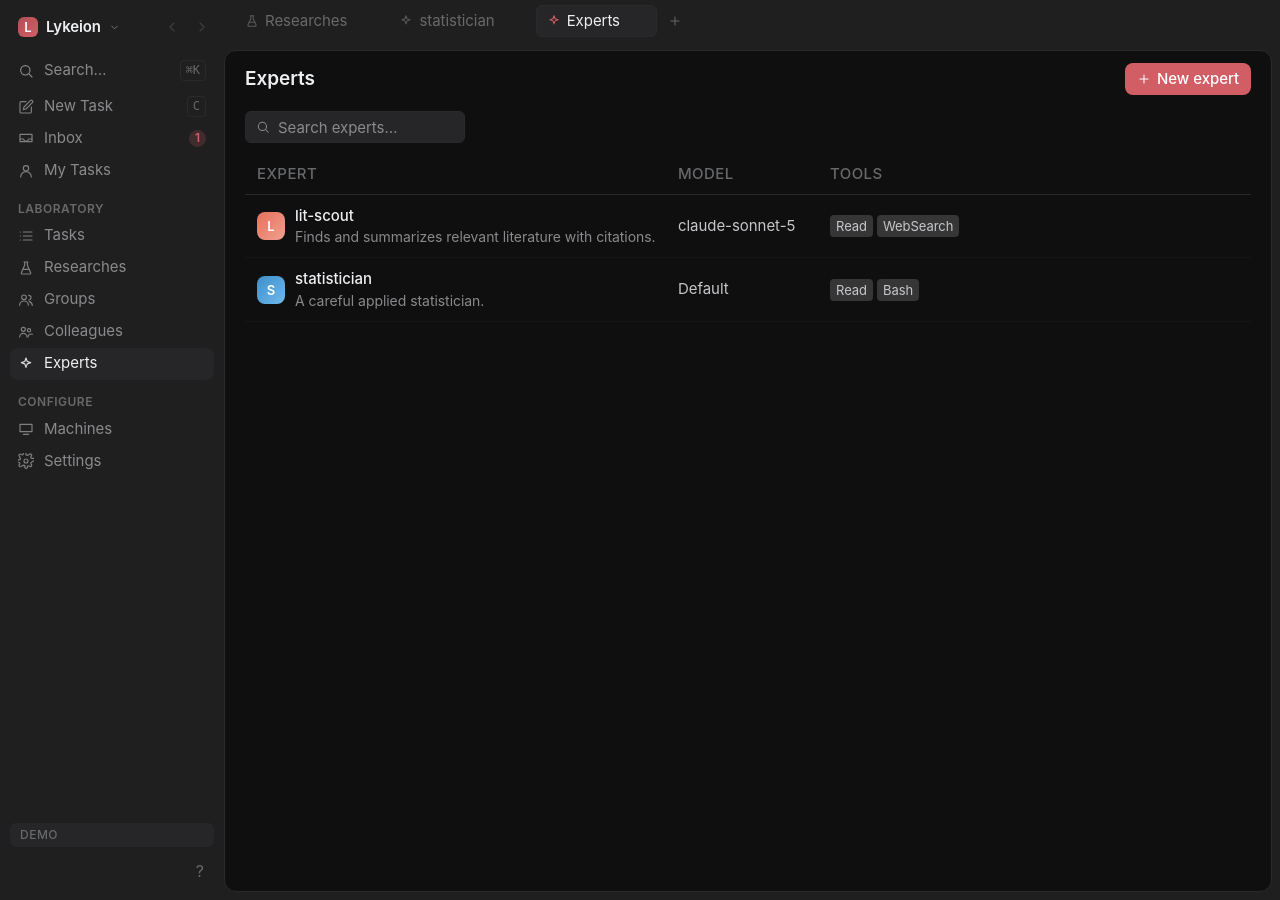
Test: offers the caller's own machines in the machine picker and never defaults to a colleague's
The width and height of the screenshot is (1280, 900).
Click the link "Experts" at (112, 364), box [10,348,214,380]
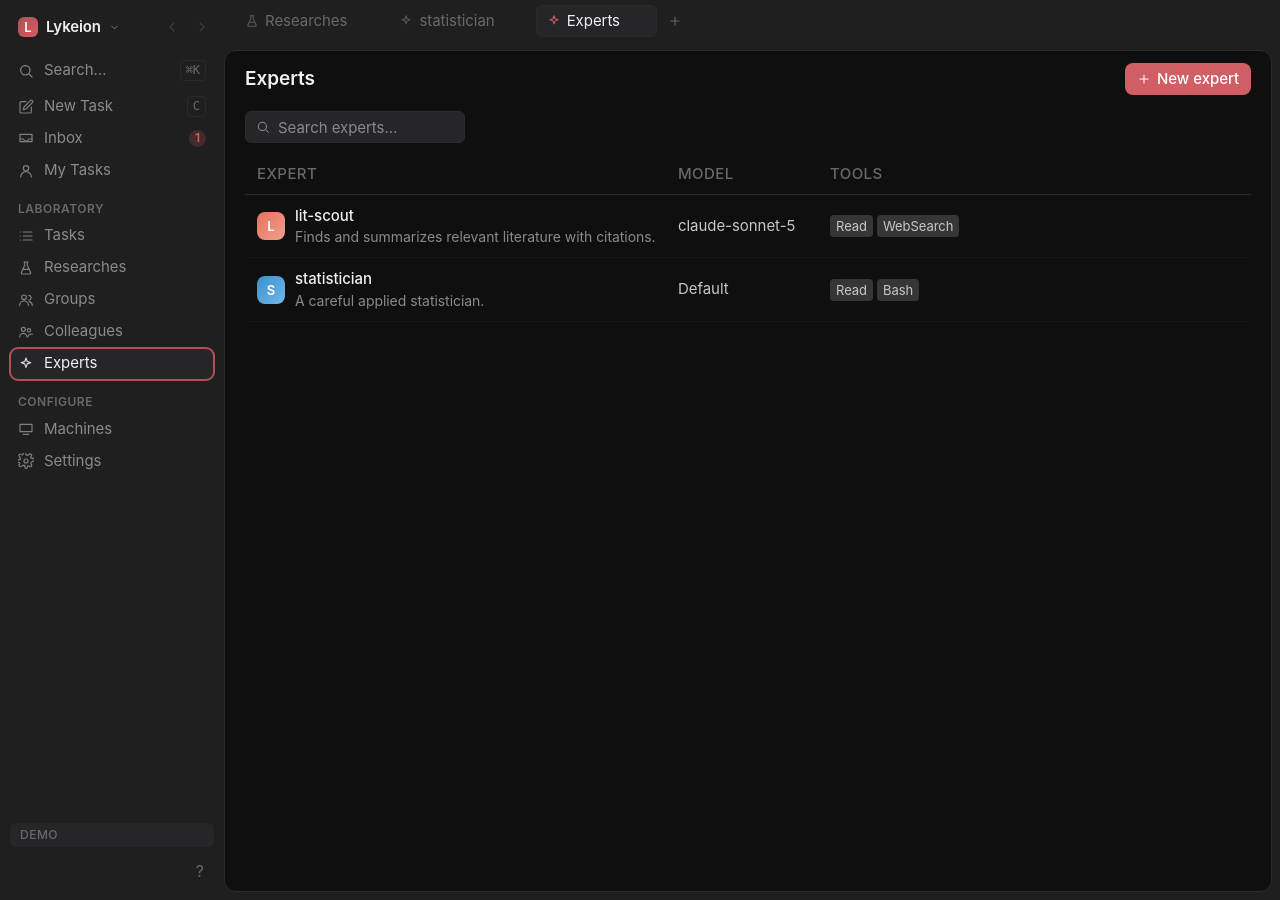
Click the button "New expert" at (1188, 79), box [1125,63,1251,95]
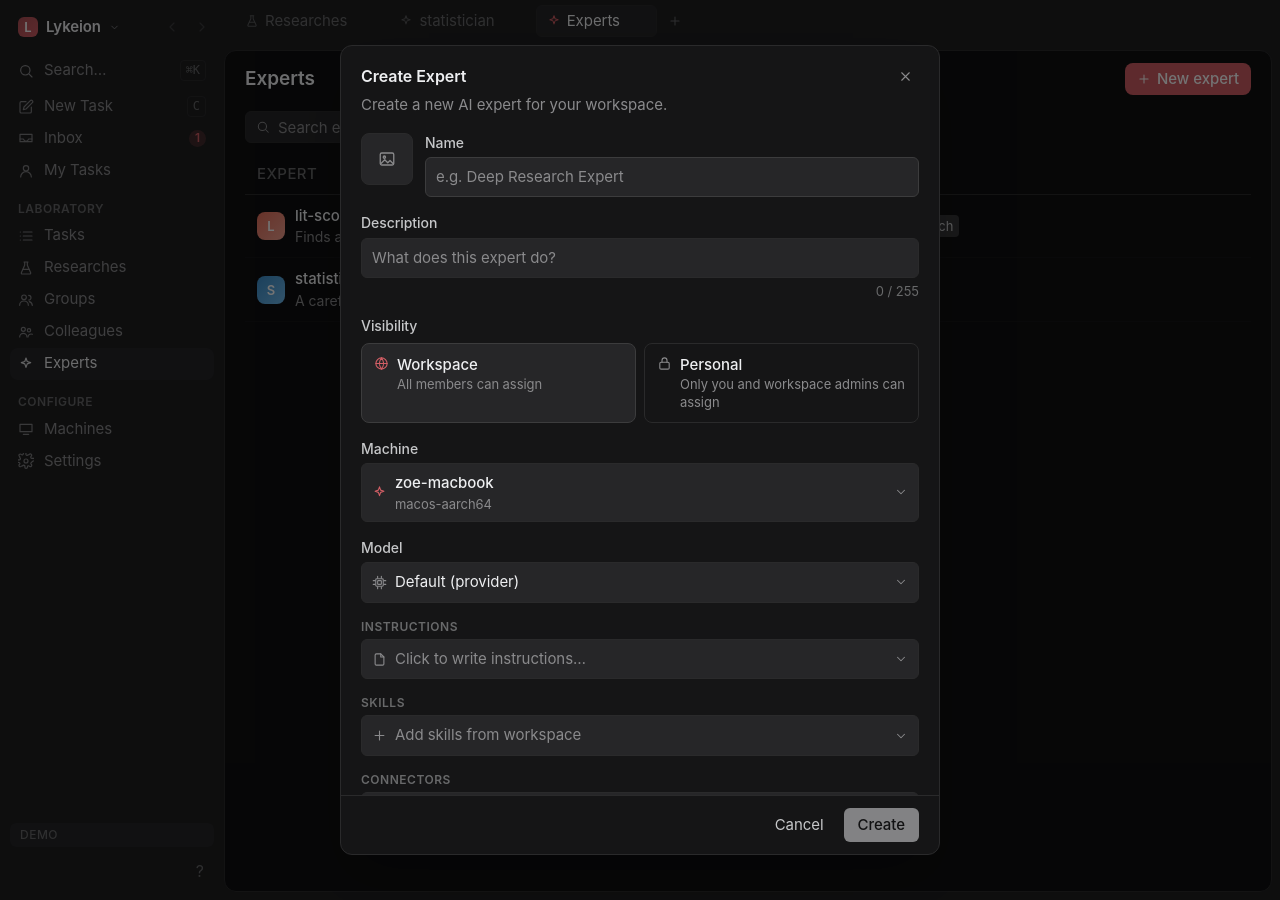
Click the button "zoe-macbook macos-aarch64" at (444, 483), box [361,463,919,522]
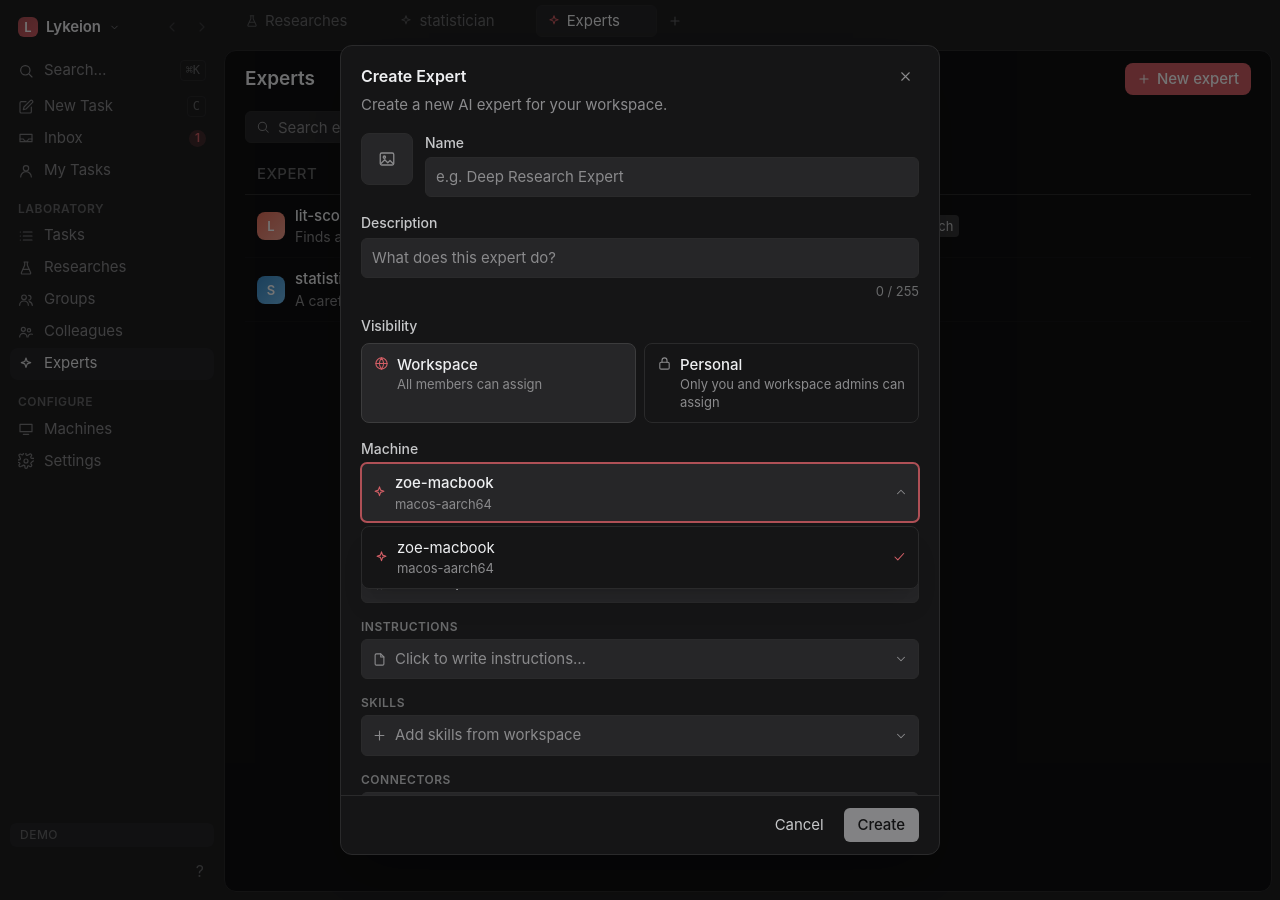
Check: the number of buttons "zoe-macbook macos-aarch64" is 2, box [361,463,919,522]; [366,531,914,584]
